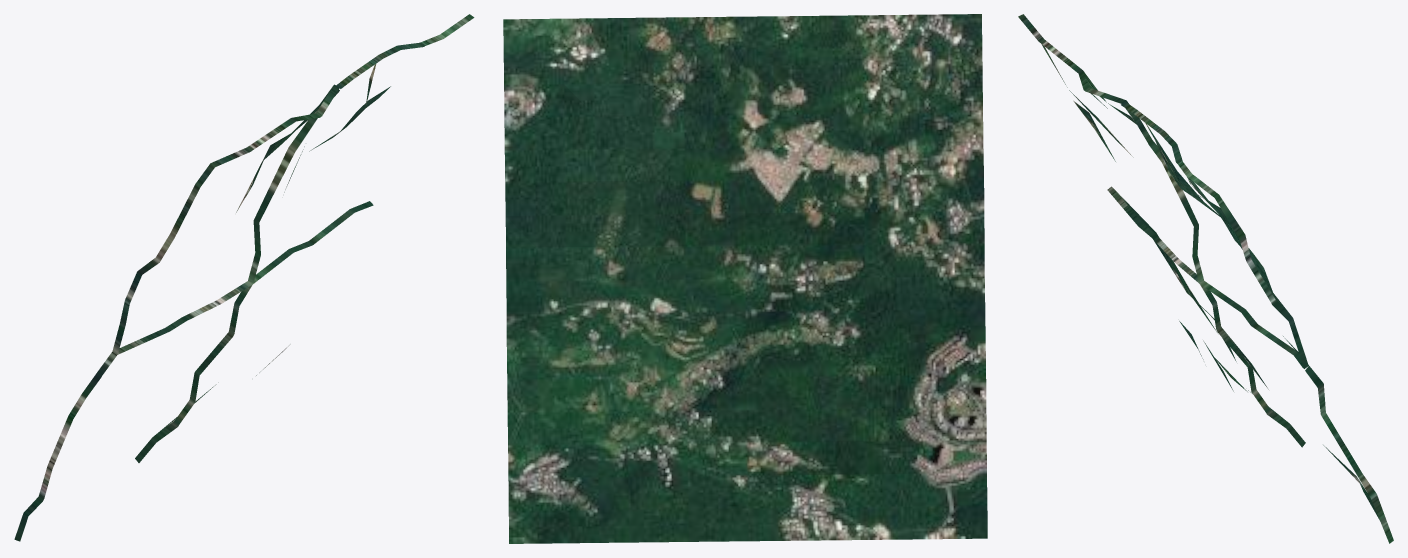
3 renders of one model, left to right at view 1: azimuth 30°, elevation 25°; view 2: azimuth 150°, elevation 25°; view 3: azimuth 270°, elevation 25°, orthographic. The views are drawn at different scales.
Size of the model in its own units: 2553 by 2301 by 1916.
1 material, 1 textured.
